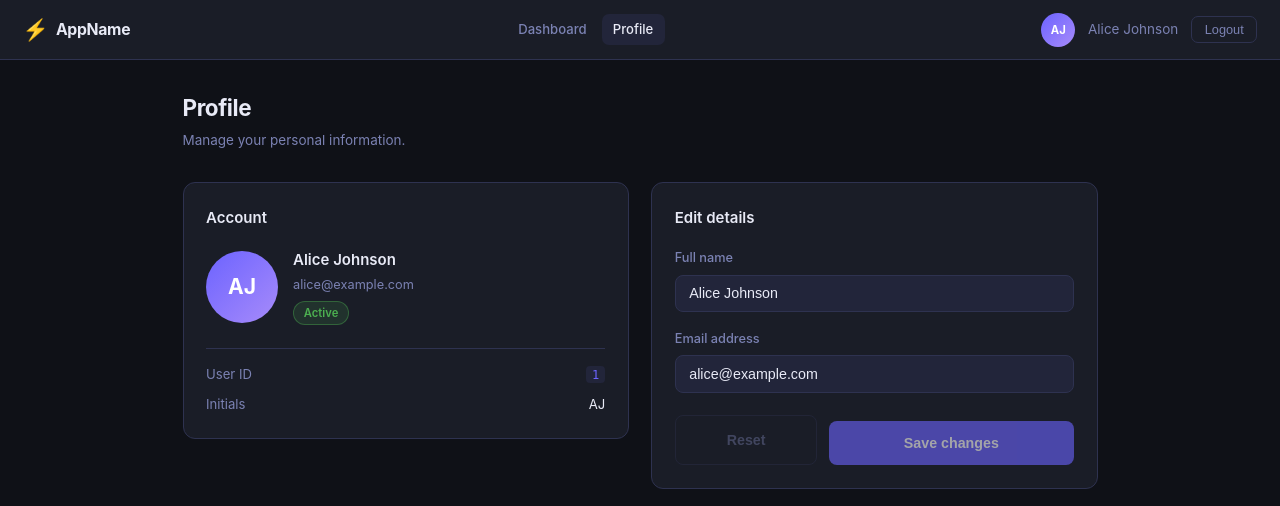
Test case: ProfilePage — submission › disables Save while saving is in progress
The width and height of the screenshot is (1280, 506).
Replace the text in the field labelled "Full name" with "Alice Smith" at (874, 293), box [675, 275, 1074, 312]
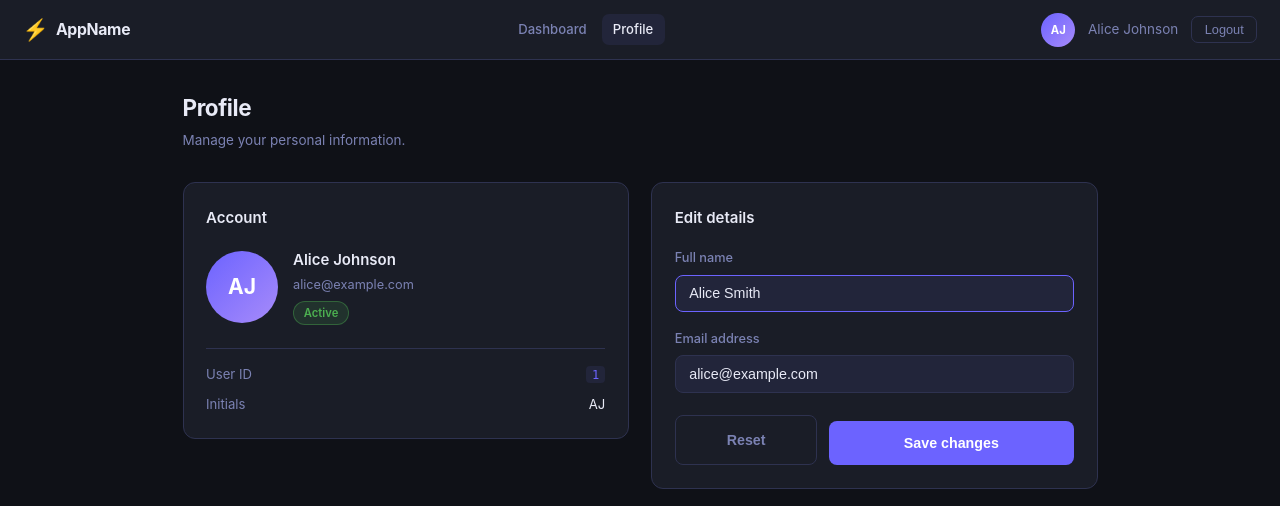
Click the button "Save changes".
click(951, 443)  # box [829, 421, 1074, 465]
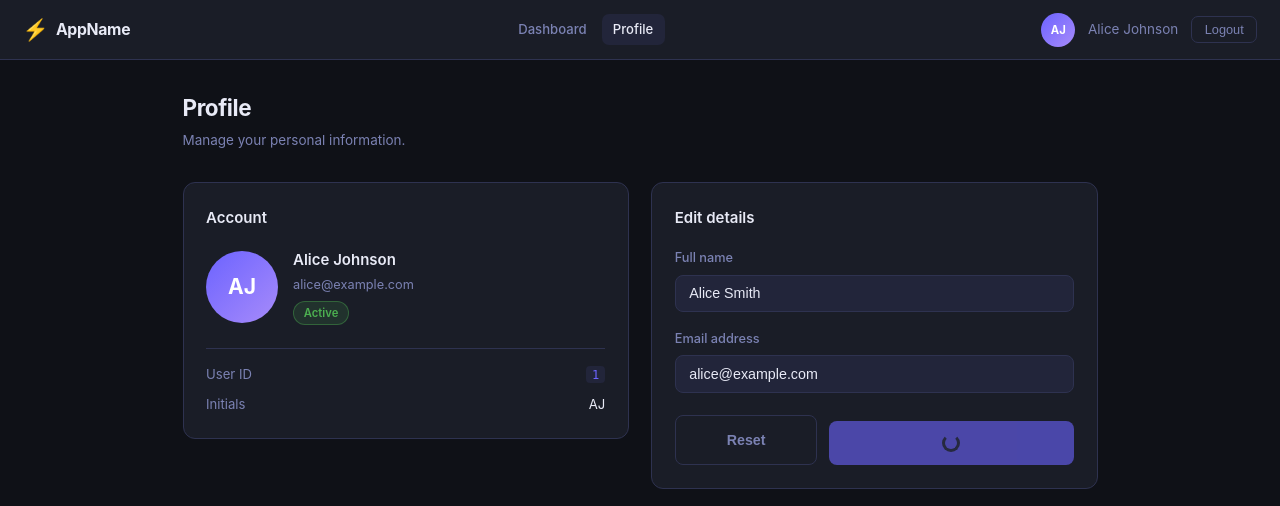
Now the button named "save changes" is disabled, box [829, 421, 1074, 465]
